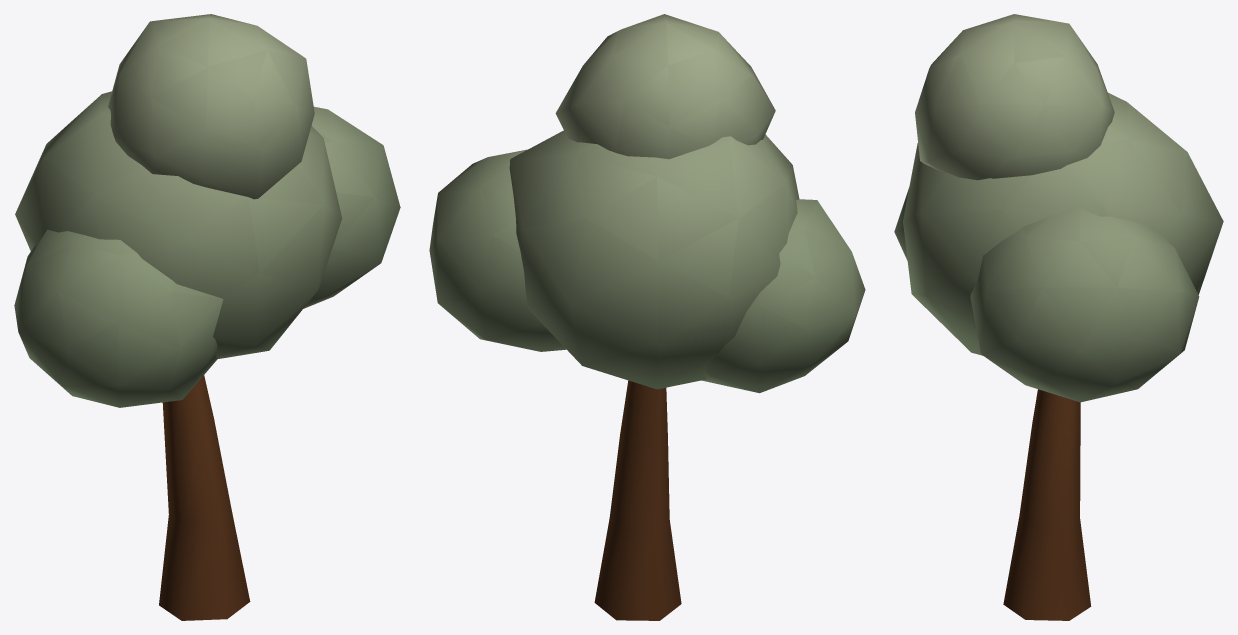
File: tree-small.glb
3 renders of one model, left to right at view 1: azimuth 30°, elevation 25°; view 2: azimuth 150°, elevation 25°; view 3: azimuth 270°, elevation 25°, orthographic. The views are drawn at different scales.
Parts seen in each view (by area): view 1: tree-small; view 2: tree-small; view 3: tree-small.
Boxes of the visible parts, x1,y1,x2,y2 form: tree-small: (14,14,400,620); tree-small: (429,14,865,620); tree-small: (894,14,1223,620).
Bounding box in the file's own units: 1.63 × 2.32 × 1.19.
